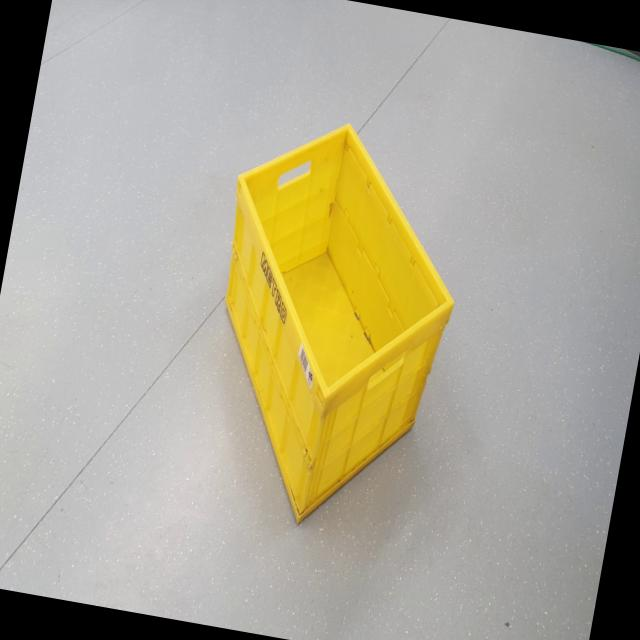box: (161, 84, 486, 560)
